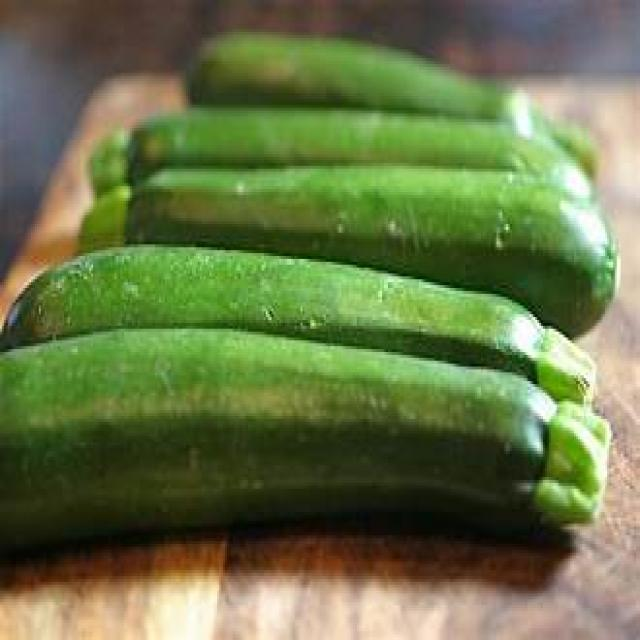Zucchini: (4, 340, 616, 548)
